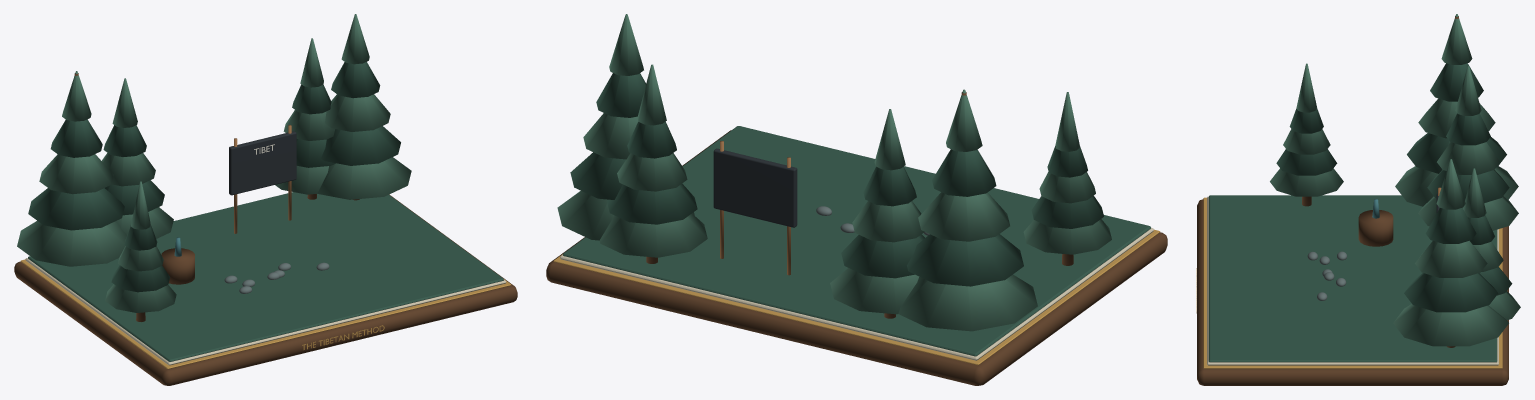
Rendered from stones.glb.
3 renders of one model, left to right at view 1: azimuth 30°, elevation 25°; view 2: azimuth 150°, elevation 25°; view 3: azimuth 270°, elevation 25°, orthographic. The views are drawn at different scales.
Visible parts, largest first — view 1: Moss earth.001, Walnut display plinth.002, Fir canopy.025, Chalk board, Fir canopy.026, Fir canopy.035, Fir canopy.036, Fir canopy.027, Inset brass rim.002, Stage floor.002, Fir canopy.037, Fir canopy.028 (+19 smaller); view 2: Moss earth.001, Walnut display plinth.002, Fir canopy.025, Chalk board, Fir canopy.026, Fir canopy.027, Fir canopy.040, Inset brass rim.002, Stage floor.002, Fir canopy.030, Fir canopy.041, Fir canopy.031 (+18 smaller); view 3: Moss earth.001, Walnut display plinth.002, Fir canopy.035, Fir canopy.036, Inset brass rim.002, Fir canopy.037, Stage floor.002, Fir canopy.032, Fir canopy.045, Fir canopy.025, Fir canopy.038, Fir canopy.026 (+18 smaller).
Part boxes in pixels (<box>): Moss earth.001: <box>28,192,503,361</box>; Walnut display plinth.002: <box>14,194,517,385</box>; Fir canopy.025: <box>17,221,126,266</box>; Chalk board: <box>229,131,296,195</box>; Fir canopy.026: <box>28,188,124,230</box>; Fir canopy.035: <box>317,157,411,199</box>; Fir canopy.036: <box>321,126,400,165</box>; Fir canopy.027: <box>39,154,113,194</box>; Inset brass rim.002: <box>20,259,511,368</box>; Stage floor.002: <box>25,258,506,365</box>; Fir canopy.037: <box>325,94,390,131</box>; Fir canopy.028: <box>50,119,102,157</box>; Moss earth.001: <box>563,126,1150,356</box>; Walnut display plinth.002: <box>546,130,1167,385</box>; Fir canopy.025: <box>898,274,1037,331</box>; Chalk board: <box>713,148,797,227</box>; Fir canopy.026: <box>907,234,1023,286</box>; Fir canopy.027: <box>918,192,1009,241</box>; Fir canopy.040: <box>599,213,707,257</box>; Inset brass rim.002: <box>553,229,1160,365</box>; Stage floor.002: <box>560,227,1153,360</box>; Fir canopy.030: <box>830,268,919,314</box>; Fir canopy.041: <box>607,183,697,224</box>; Fir canopy.031: <box>841,234,924,278</box>; Moss earth.001: <box>1208,195,1497,362</box>; Walnut display plinth.002: <box>1197,199,1508,385</box>; Fir canopy.035: <box>1393,304,1508,346</box>; Fir canopy.036: <box>1404,273,1498,312</box>; Inset brass rim.002: <box>1203,197,1502,368</box>; Fir canopy.037: <box>1415,240,1487,277</box>; Stage floor.002: <box>1207,196,1498,365</box>; Fir canopy.032: <box>1437,142,1499,174</box>; Fir canopy.045: <box>1270,168,1343,196</box>; Fir canopy.025: <box>1395,166,1518,206</box>; Fir canopy.038: <box>1425,208,1476,243</box>; Fir canopy.026: <box>1407,133,1506,173</box>.
Bounding box in the file's own units: 7.58 × 4.17 × 5.63.
